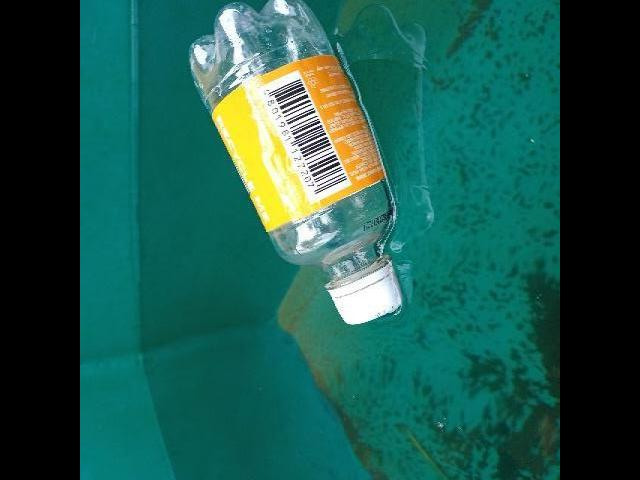Bottle: (181, 0, 413, 333)
